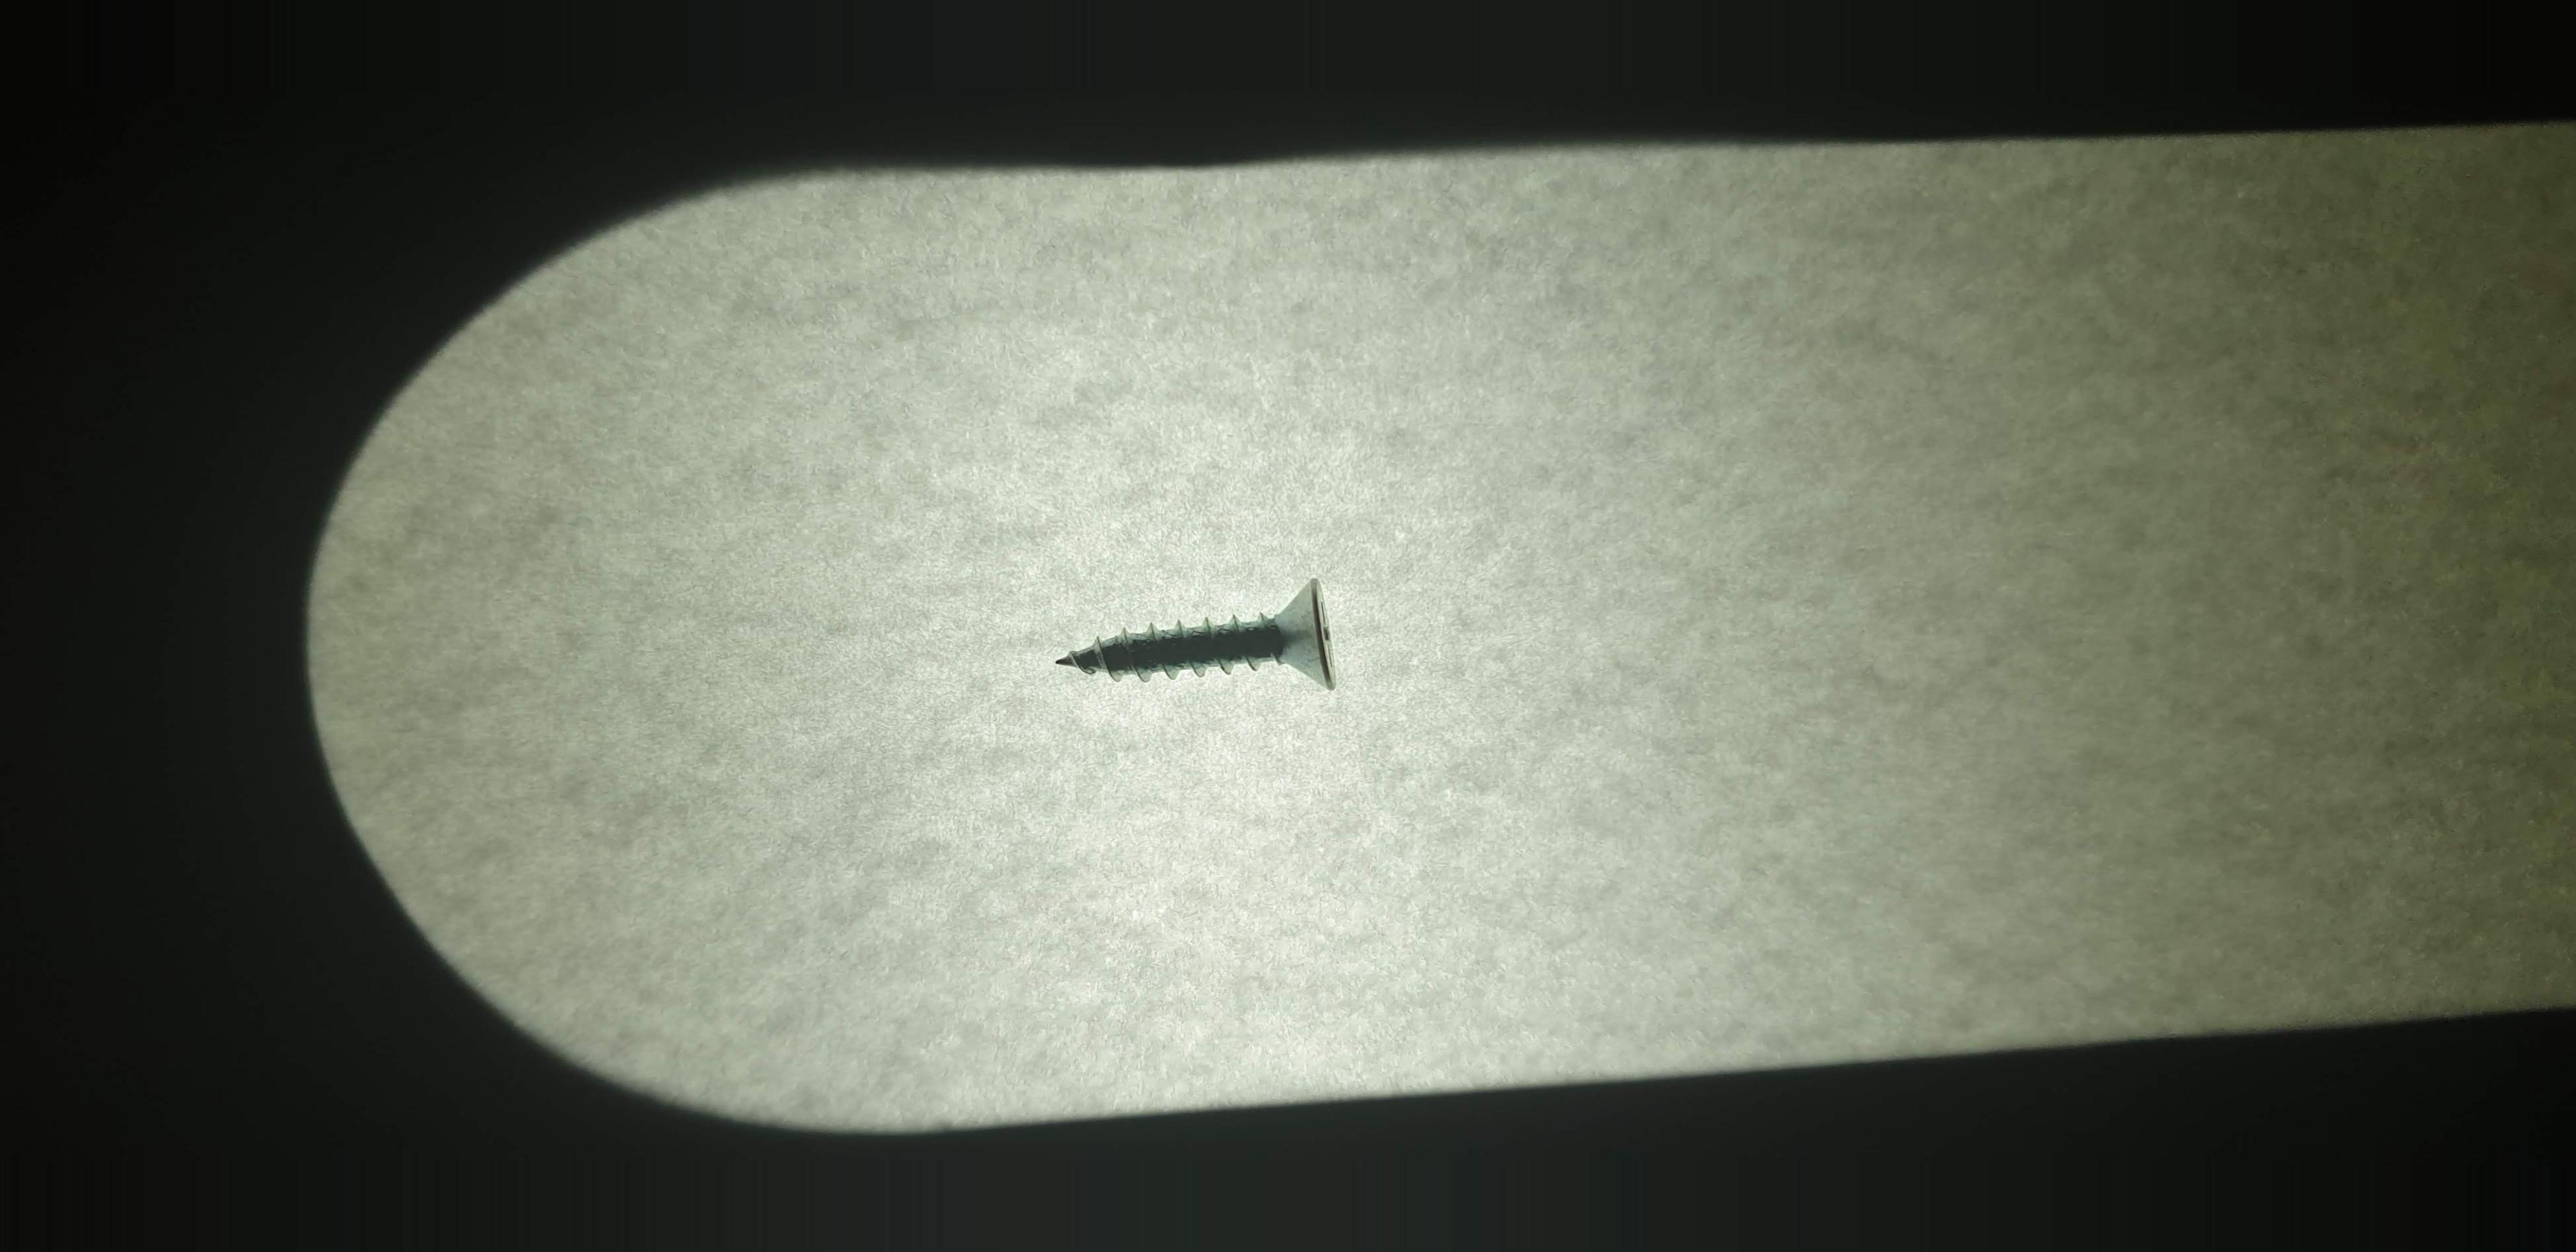S003: (1028, 545, 1385, 738)
